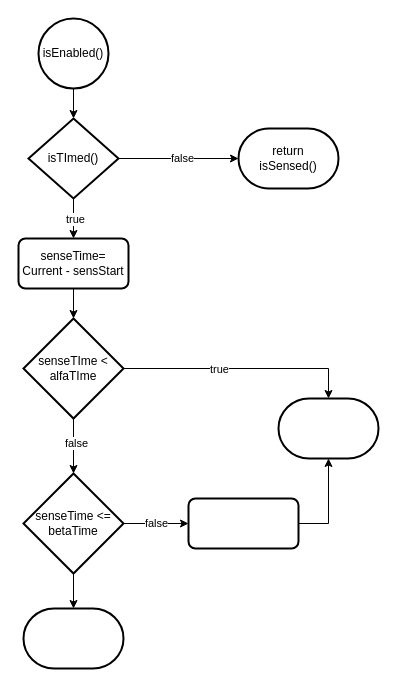
The diagram is 396 pixels wide and 686 high, and some of its shapes have lost their labels. Each missing label, with the box of its shape:
print(transition timed out): (187, 497, 299, 549)
return false: (277, 397, 379, 459)
return true: (22, 607, 124, 669)
